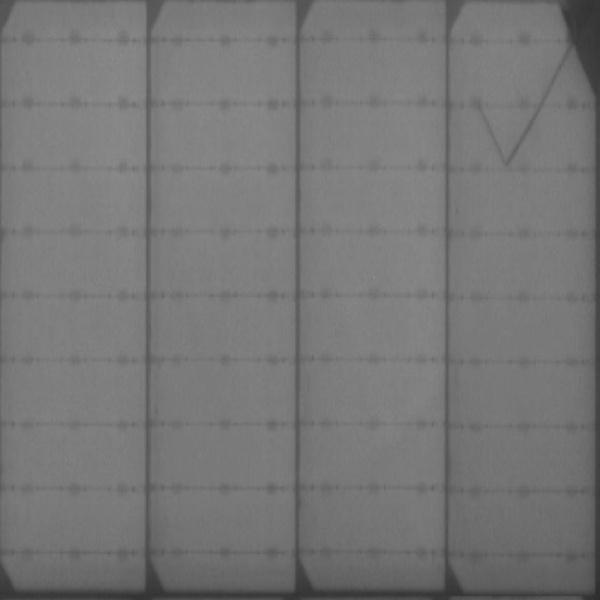broken: (471, 1, 600, 166)
